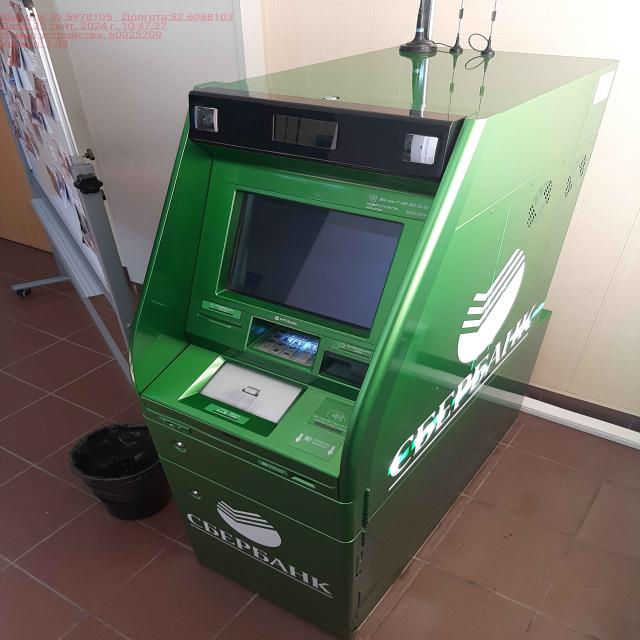bank: (112, 31, 619, 634)
